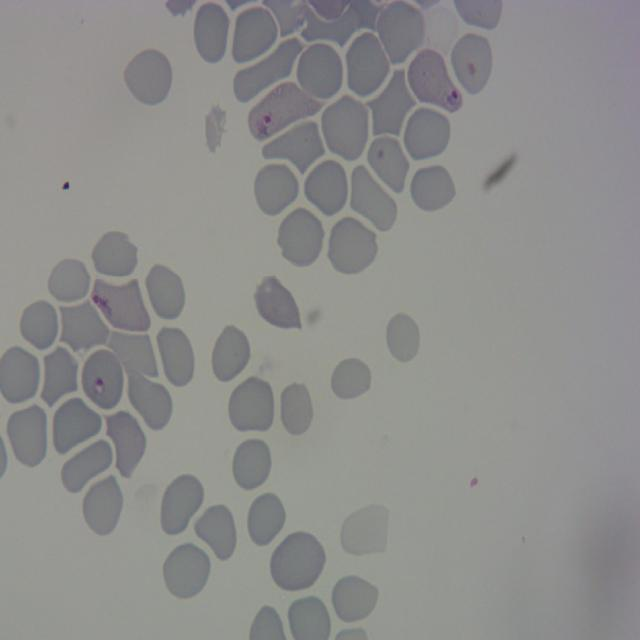leukocyte: (233, 35, 301, 103), (266, 530, 329, 594), (366, 70, 420, 139), (320, 93, 371, 164), (325, 214, 381, 277), (348, 164, 398, 234), (121, 42, 170, 111), (275, 205, 327, 270), (262, 120, 325, 173), (377, 0, 426, 68), (344, 31, 392, 100), (59, 436, 114, 496), (50, 396, 103, 458), (160, 540, 213, 602), (158, 472, 206, 540), (104, 408, 148, 480), (448, 30, 495, 96), (228, 4, 278, 66), (5, 402, 50, 470), (60, 301, 113, 358), (401, 105, 452, 164), (226, 376, 276, 435), (339, 499, 389, 558), (80, 473, 125, 538), (252, 274, 302, 332), (191, 503, 239, 563), (208, 321, 252, 386), (252, 160, 301, 218), (190, 0, 232, 67), (154, 324, 197, 389), (297, 42, 344, 101), (304, 159, 350, 219), (143, 262, 187, 324), (130, 371, 175, 430), (89, 227, 138, 280), (244, 489, 288, 548), (107, 330, 158, 380), (408, 162, 457, 214), (40, 344, 79, 406), (331, 572, 378, 623), (46, 253, 91, 306), (368, 136, 410, 192), (276, 379, 315, 438), (383, 309, 423, 366), (328, 353, 372, 403), (232, 436, 273, 488), (22, 301, 57, 348)
red blood cell: (248, 78, 322, 142), (408, 46, 464, 116), (90, 273, 152, 333), (78, 352, 125, 409)
